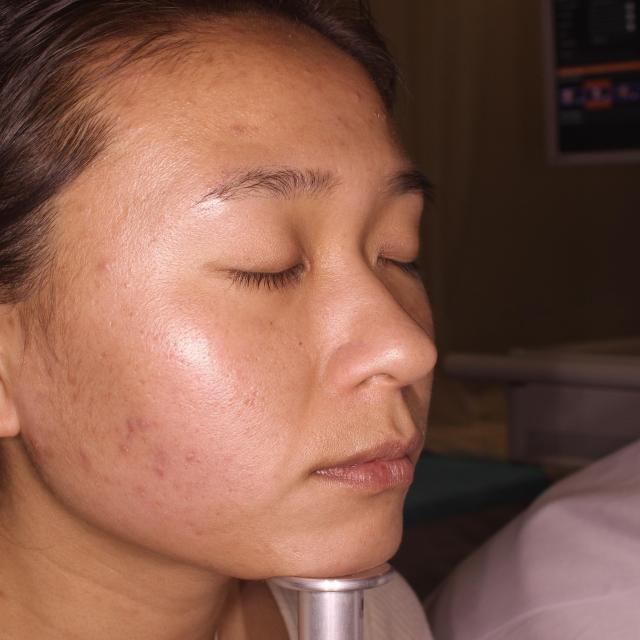pustule: (24, 434, 57, 465), (84, 255, 115, 283), (122, 408, 147, 439), (142, 454, 175, 475), (345, 82, 363, 109), (72, 444, 94, 466), (117, 441, 131, 459)
